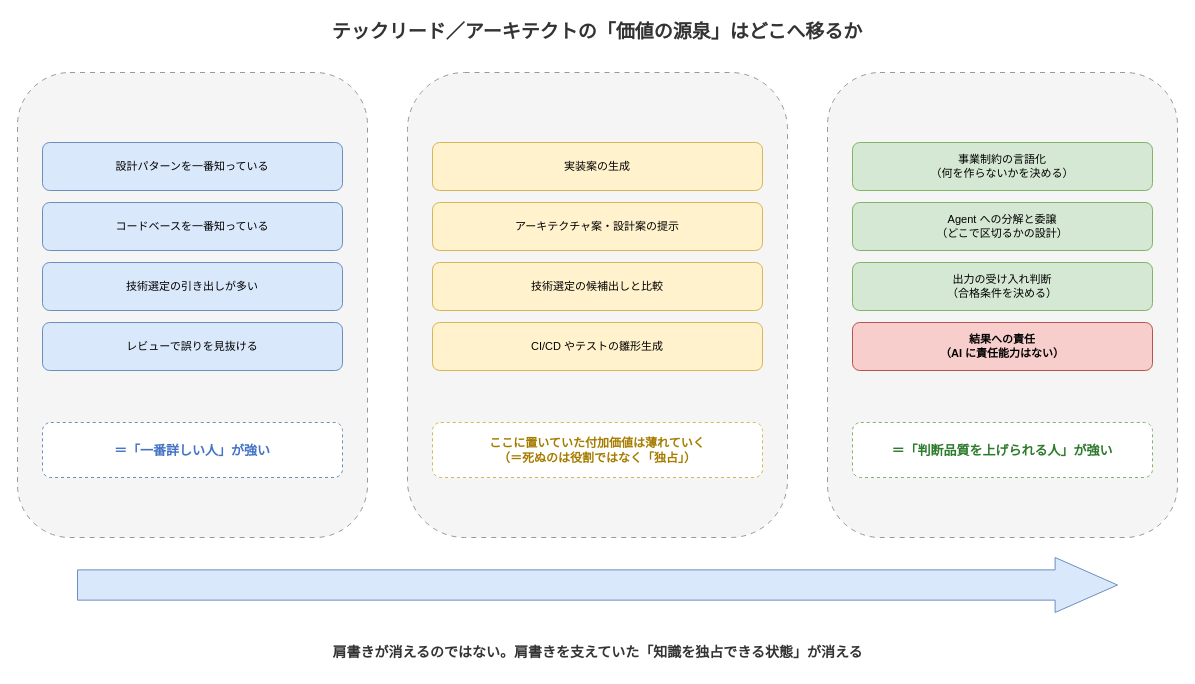
Some shapes in this 1195 by 684 pixel diagram are drawn without their labels. The shapes that lost their labels are listed below. From the top down, each one's box as (x1, y1, x2, y2) in pixels, then its label:
(16, 72, 368, 538): これまでの価値の源泉 （知識の非対称性）
(406, 72, 788, 538): AI が肩代わりし始めた領域
(826, 72, 1178, 538): 残る、むしろ比重が増す仕事
(76, 556, 1118, 612): 価値の源泉の移動：知識の独占 → 判断と責任
